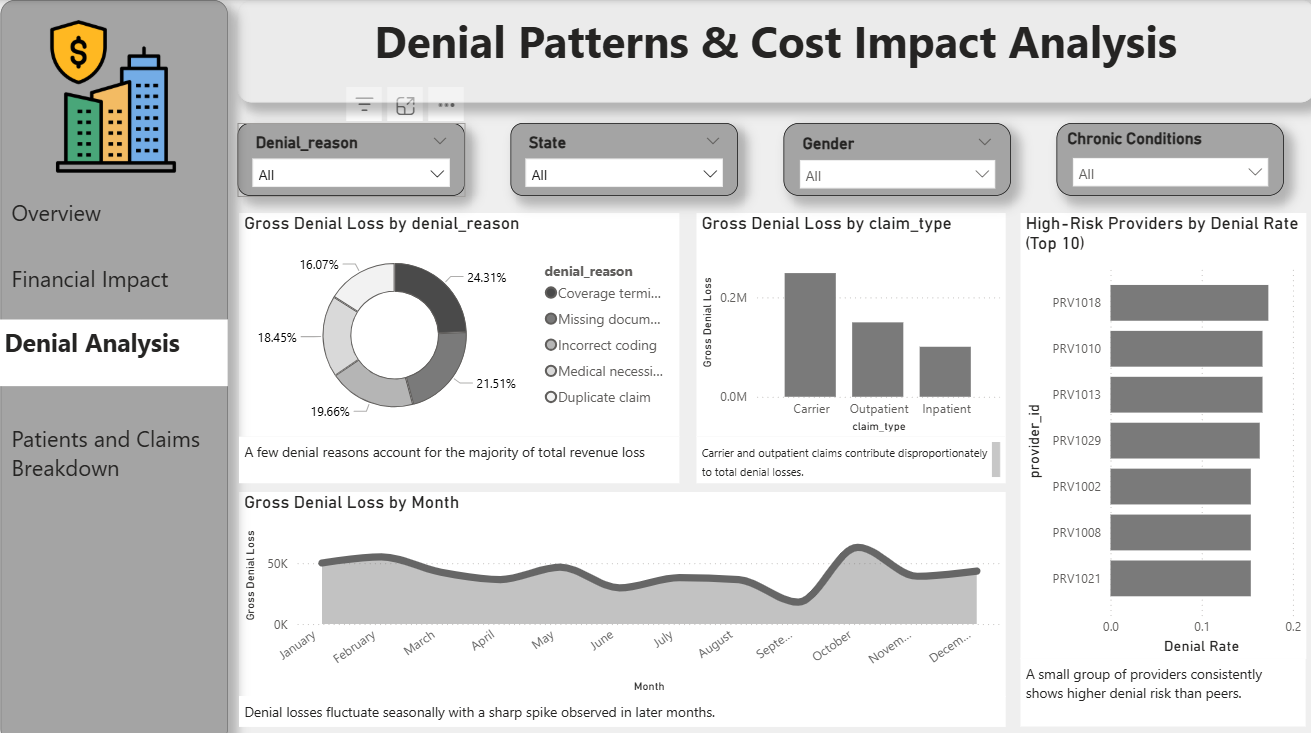

The dashboard page shown, as its layout file describes it:
{"tool":"powerbi","page":{"name":"denial analysis","canvas":[1280,720],"ordinal":2},"visuals":[{"type":"donutChart","fields":{"Category":["claims_project_claims.denial_reason"],"Y":["claims_project_claims.Gross Denial Loss"]},"box":[235.2,207.1,427.4,217],"z":0},{"type":"clusteredColumnChart","fields":{"Category":["claims_project_claims.claim_type"],"Y":["claims_project_claims.Gross Denial Loss"]},"box":[679.2,207.1,299.8,217],"z":1000},{"type":"clusteredBarChart","title":"High-Risk Providers by Denial Rate (Top 10)","fields":{"Y":["claims_project_claims.Denial Rate "],"Category":["claims_project_claims.provider_id"]},"box":[993.9,207.1,277,432.3],"z":2000},{"type":"lineChart","fields":{"Category":["claims_project_claims.claim_date.Variation.Date Hierarchy.Month"],"Y":["claims_project_claims.Gross Denial Loss"]},"box":[235.2,477.1,743.8,198.8],"z":3000},{"type":"slicer","fields":{"Values":["claims_project_claims.denial_reason"]},"box":[234.9,119.5,220.8,70.9],"z":4000},{"type":"slicer","fields":{"Values":["claims_project_providers.state"]},"box":[499.6,119.5,220.8,70.9],"z":5000},{"type":"slicer","fields":{"Values":["claims_project_patients.gender"]},"box":[764.2,119.5,220.8,70.9],"z":6000},{"type":"slicer","title":"Chronic Conditions","fields":{"Values":["claims_project_patients.chf_flag","claims_project_patients.ckd_flag","claims_project_patients.copd_flag","claims_project_patients.diabetes_flag","claims_project_patients.esrd_flag"]},"box":[1028.9,119.5,220.8,70.9],"z":7000},{"type":"textbox","box":[234.9,0,1045.1,99.2],"z":8000},{"type":"textbox","box":[4.1,0,220.8,721],"z":9000},{"type":"textbox","box":[3.3,309.8,222,64.6],"z":10000},{"type":"textbox","box":[235.2,424.1,427.4,45],"z":11000},{"type":"textbox","box":[679.2,424.1,299.8,45],"z":12000},{"type":"textbox","box":[235.2,675.8,743.8,29.8],"z":13000},{"type":"textbox","box":[993.9,639.4,276.6,66.3],"z":14000},{"type":"image","box":[24.3,14.2,178.2,158],"z":15000}]}

Visuals, with their boxes on the page's 1280x720 design canvas (x1, y1, x2, y2). These are canvas units, not pixel positions in the 1311x733 screenshot, which may show the page scaled, cropped or inside an application window:
donutChart - claims_project_claims.denial_reason x claims_project_claims.Gross Denial Loss: rect(235, 207, 663, 424)
clusteredColumnChart - claims_project_claims.claim_type x claims_project_claims.Gross Denial Loss: rect(679, 207, 979, 424)
"High-Risk Providers by Denial Rate (Top 10)" clusteredBarChart: rect(994, 207, 1271, 639)
lineChart - claims_project_claims.claim_date.Variation.Date Hierarchy.Month x claims_project_claims.Gross Denial Loss: rect(235, 477, 979, 676)
slicer - claims_project_claims.denial_reason: rect(235, 120, 456, 190)
slicer - claims_project_providers.state: rect(500, 120, 720, 190)
slicer - claims_project_patients.gender: rect(764, 120, 985, 190)
"Chronic Conditions" slicer: rect(1029, 120, 1250, 190)
textbox: rect(235, 0, 1280, 99)
textbox: rect(4, 0, 225, 721)
textbox: rect(3, 310, 225, 374)
textbox: rect(235, 424, 663, 469)
textbox: rect(679, 424, 979, 469)
textbox: rect(235, 676, 979, 706)
textbox: rect(994, 639, 1270, 706)
image: rect(24, 14, 202, 172)
